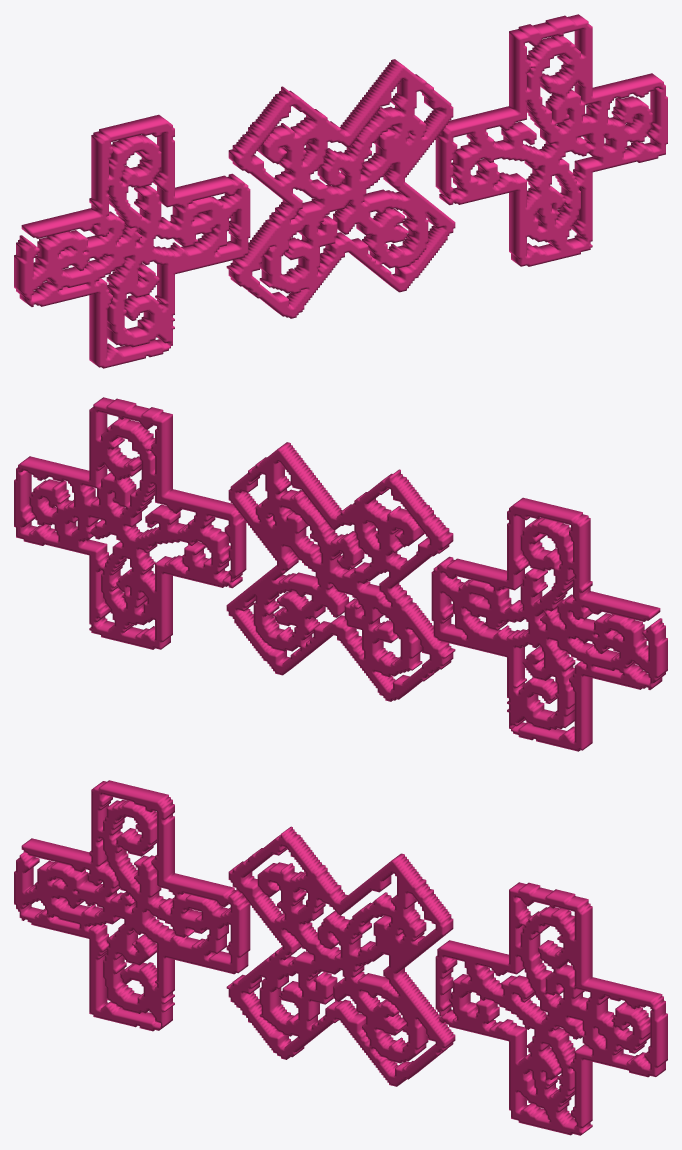
The model's file is asset.glb.
The picture shows the model from 3 angles, top to bottom: view 1: azimuth 30°, elevation 25°; view 2: azimuth 150°, elevation 25°; view 3: azimuth 330°, elevation 25°; orthographic projection.
Parts seen in each view (by area): view 1: Modelo; view 2: Modelo; view 3: Modelo.
Boxes of the visible parts, x1,y1,x2,y2 form: Modelo: (14,14,667,368); Modelo: (14,397,667,751); Modelo: (14,780,667,1135).
Size of the model in its own units: 1.85 by 0.6389 by 0.05.
